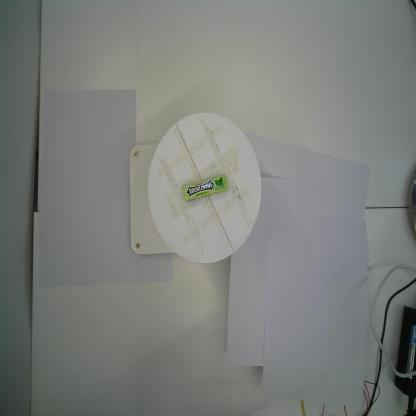Gum: (183, 174, 228, 203)
